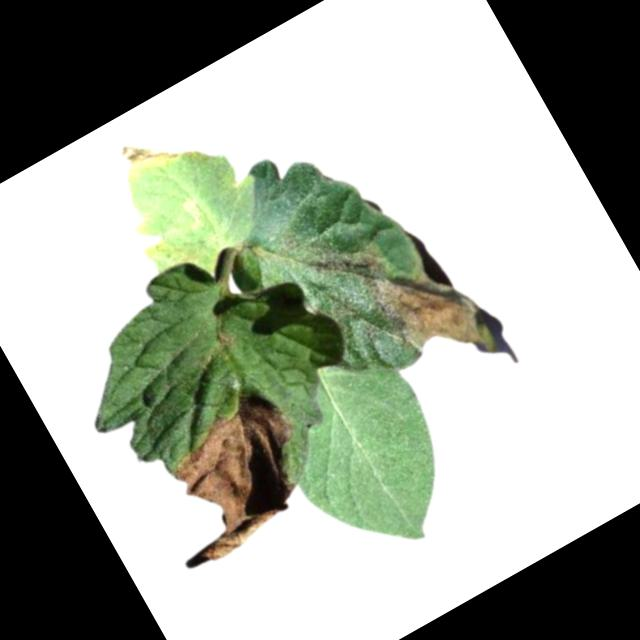Late_blight: (144, 377, 332, 563), (350, 212, 516, 401), (114, 125, 179, 183)
